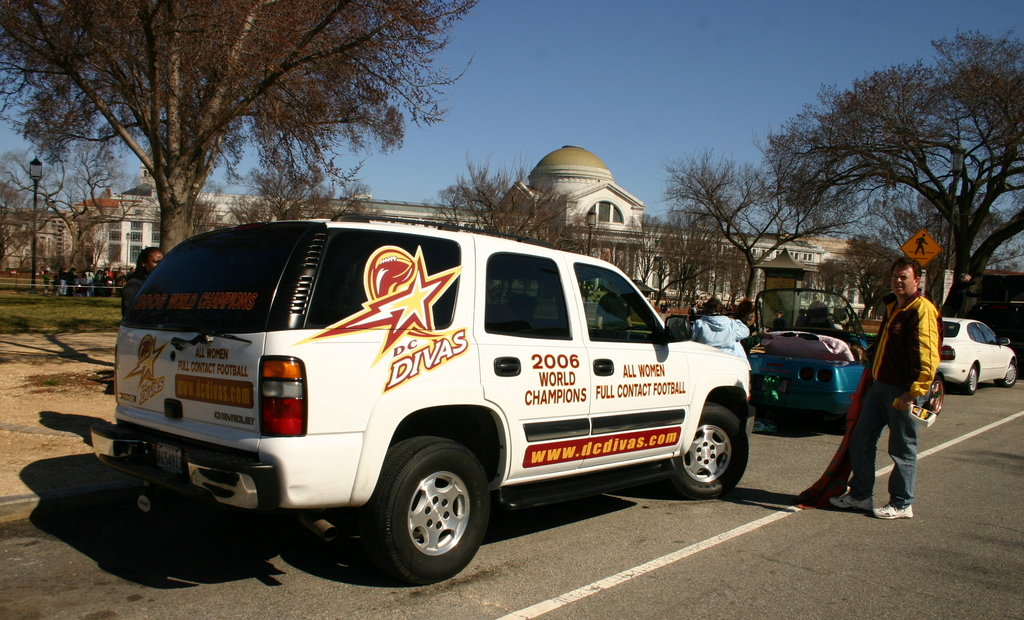Car: (87, 213, 750, 584), (940, 318, 1023, 389)
